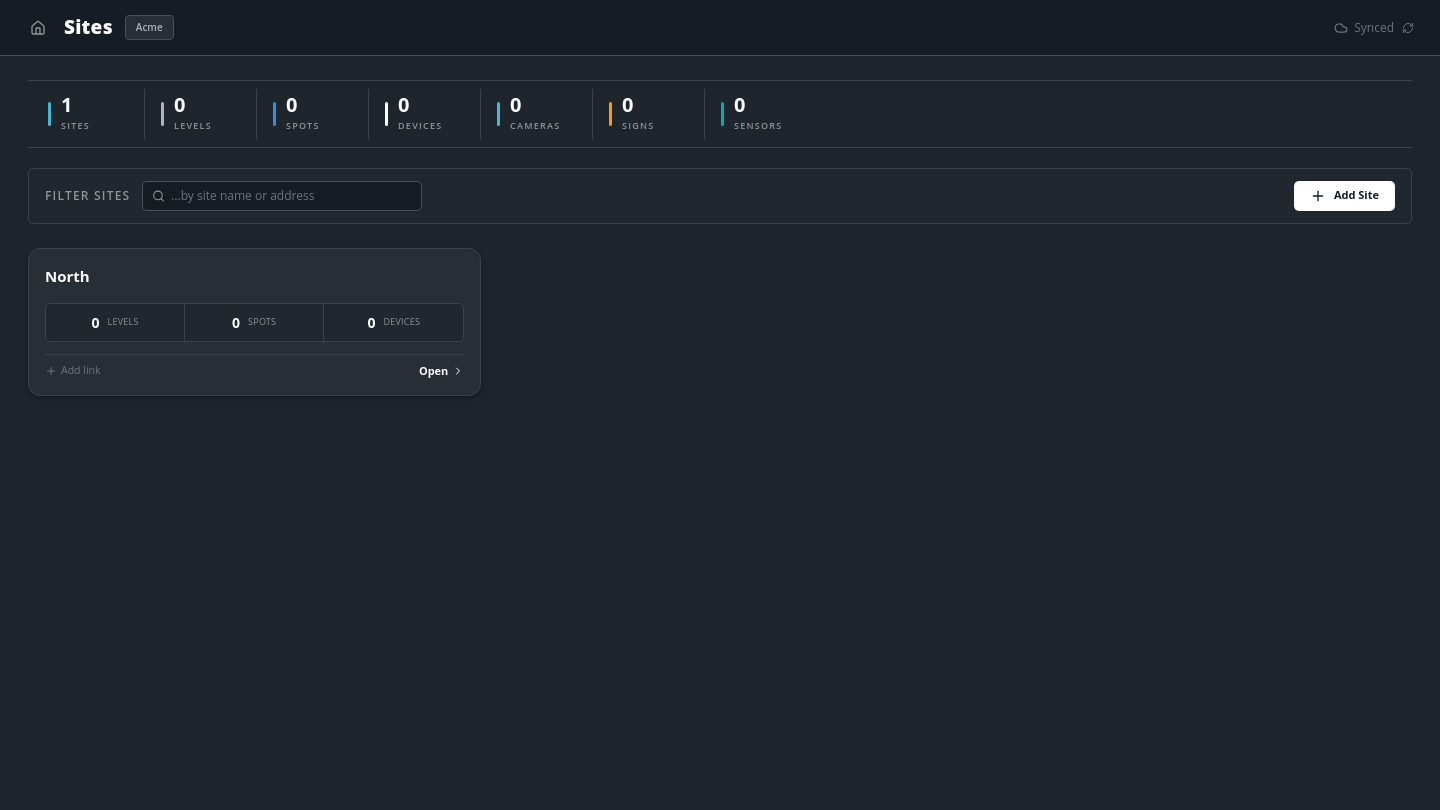
it: add a site › refuses a duplicate name regardless of case, without syncing
Click the button "Add Site": (1344, 196) [1294,180,1395,210]
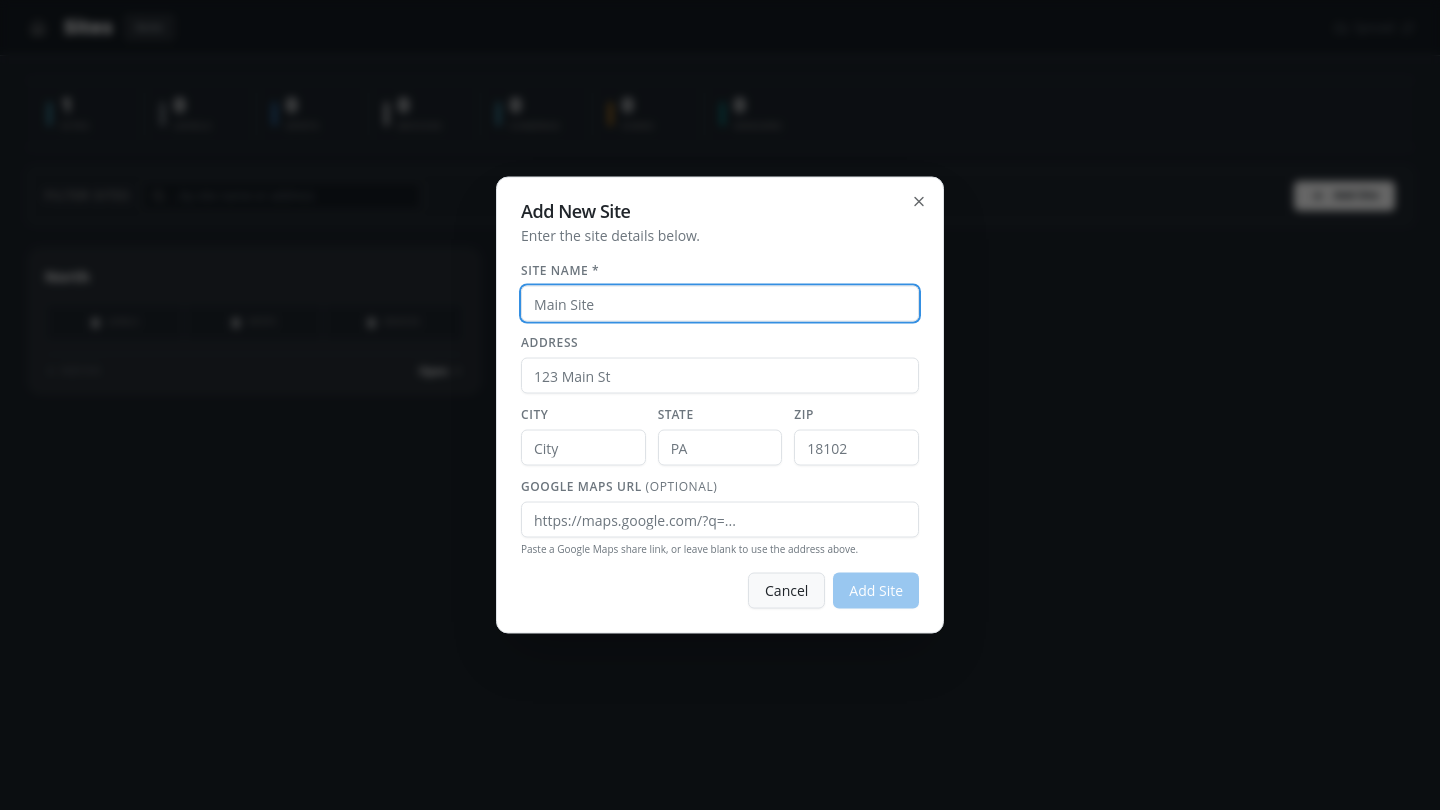
In the field with placeholder "Main Site": (720, 304) [521,286,919,322], type "nOrTh"
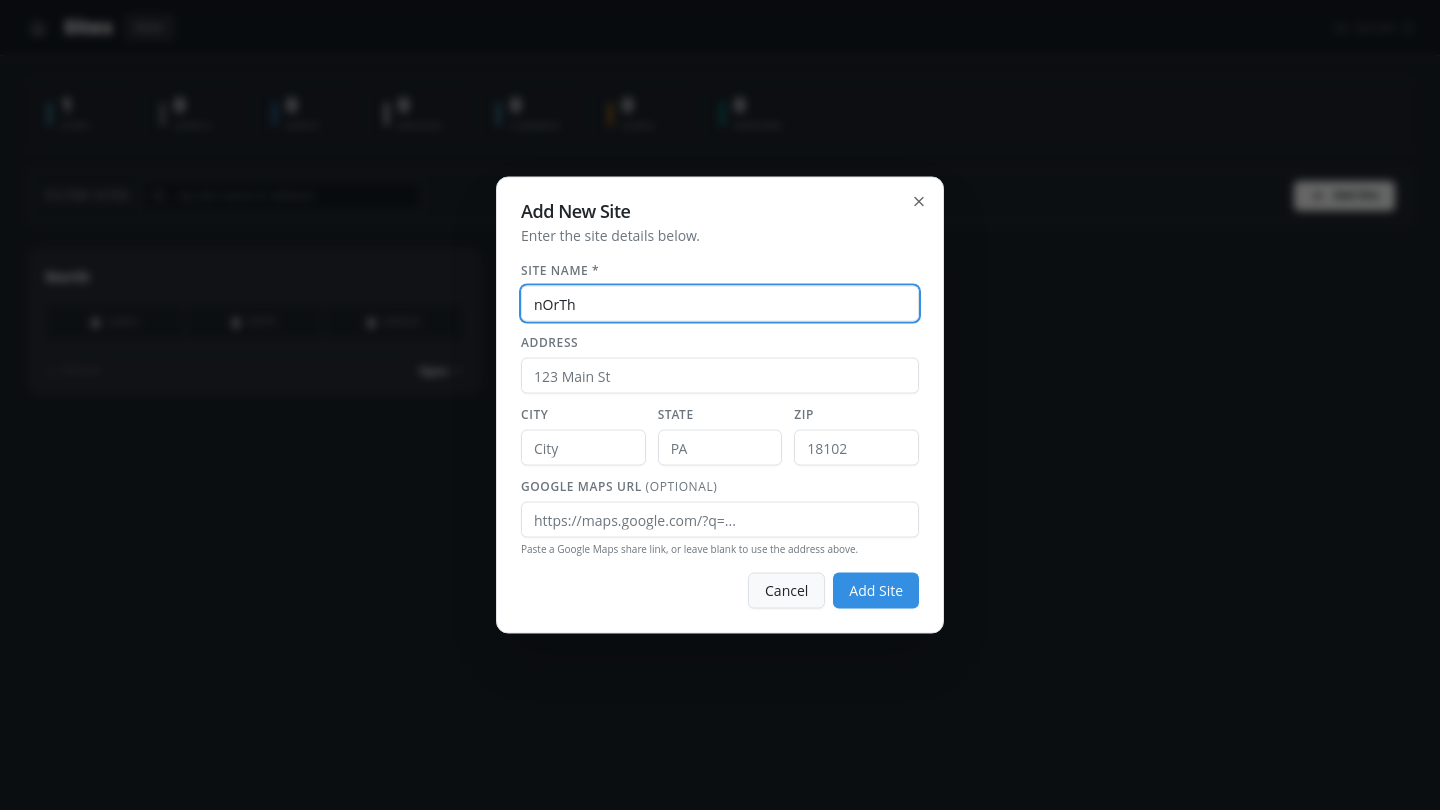
Click the button "Add Site": (876, 590) [833,572,919,608]
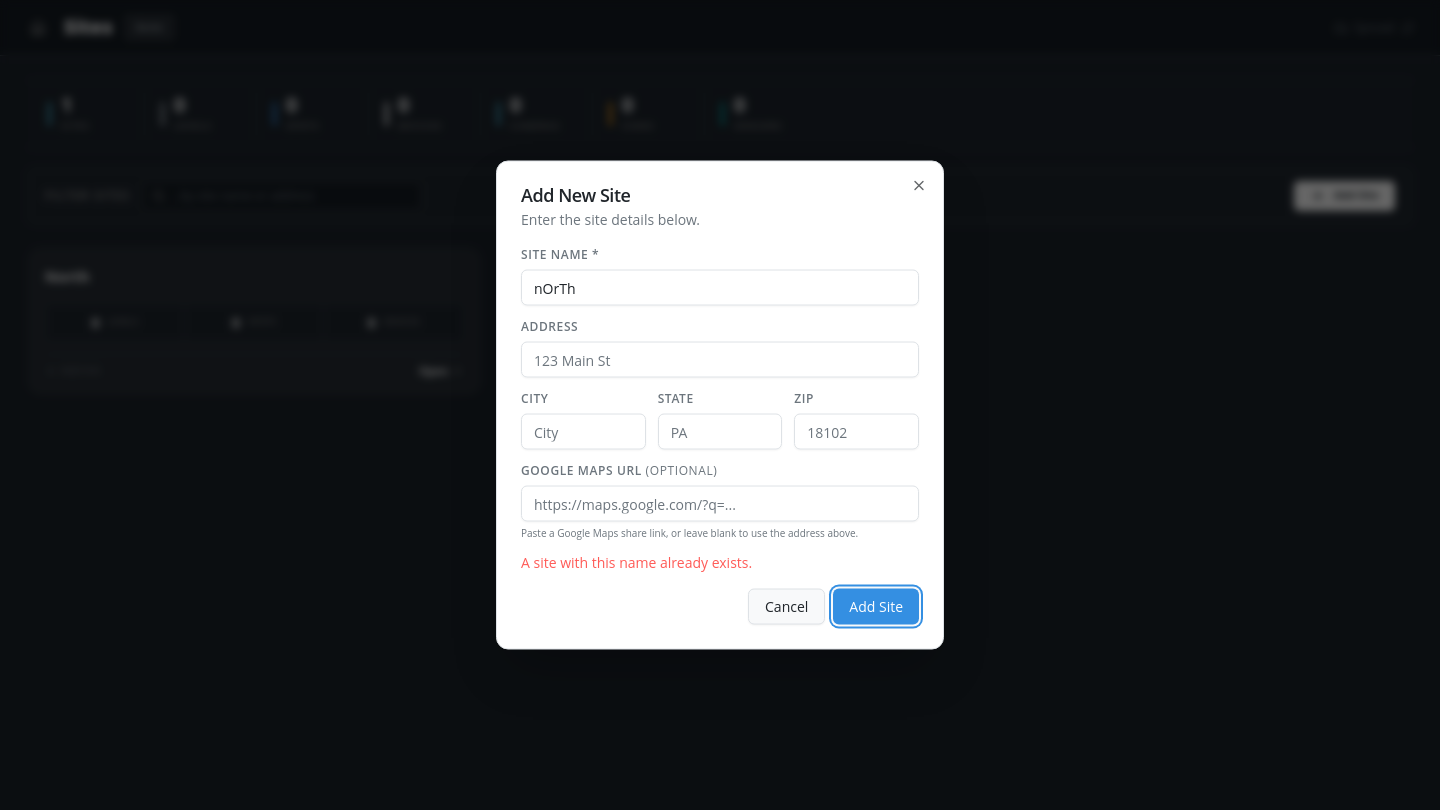
Now the text "A site with this name already exists." is shown, box [521,552,752,572]
